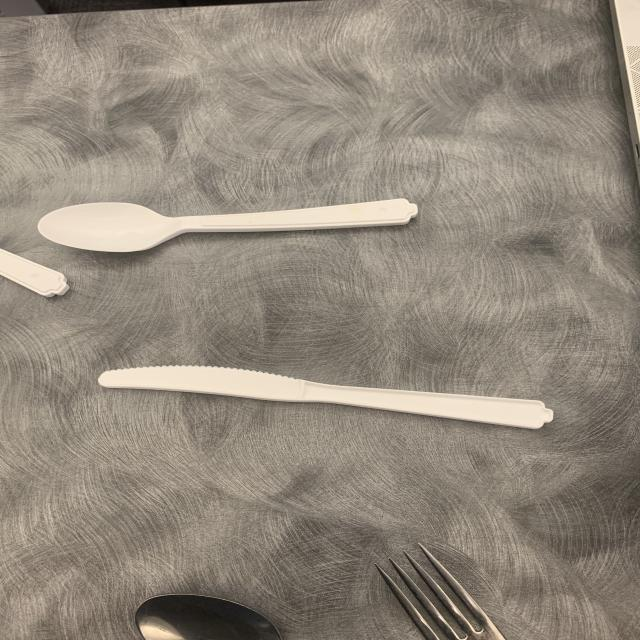knife: (75, 361, 579, 431)
spoon: (20, 177, 437, 286)
